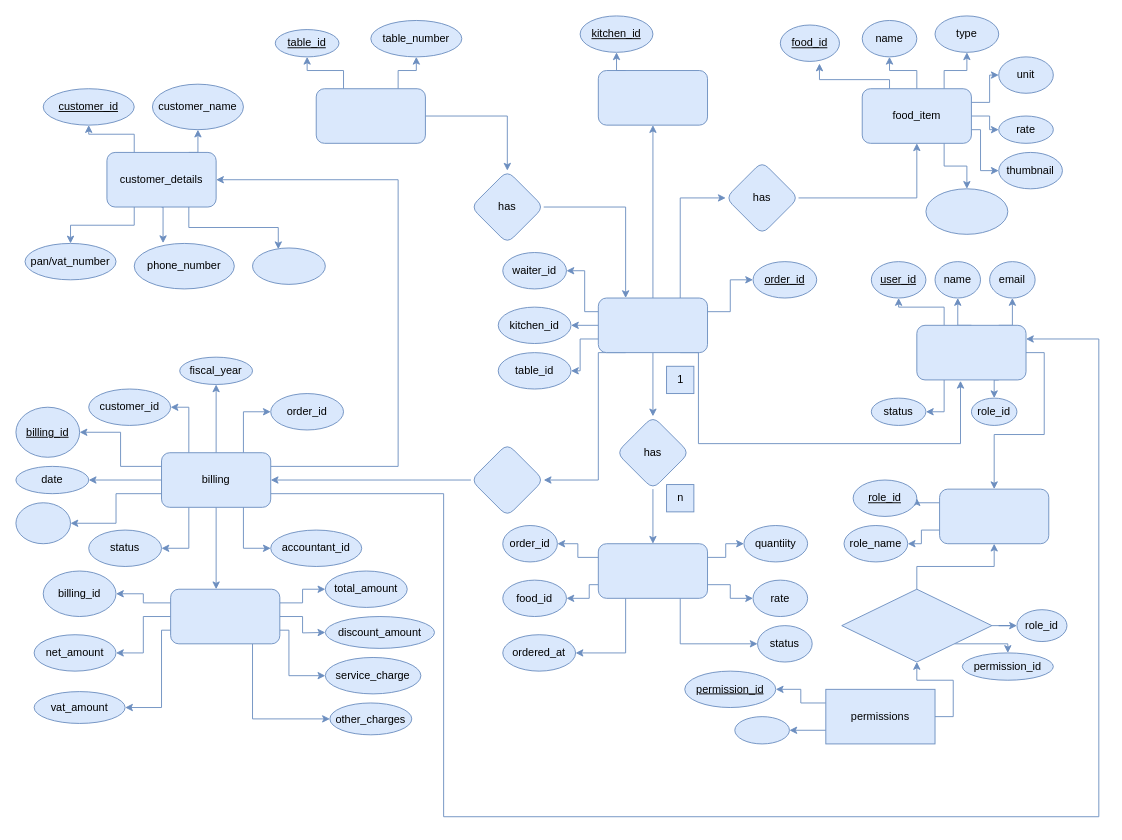
Image size: 1122x840. Some labels were removed from this diagram. Here are the shapes that lost their labels. From the top down, the centre of each, then its label:
(370,115): table
(652,97): kitchen
(966,211): descriptions
(288,265): address
(652,325): order
(971,352): user
(507,479): bill_paid
(43,523): time
(994,516): role
(652,570): order_item
(225,616): billing_details
(916,625): role_has_permissions
(761,730): title
